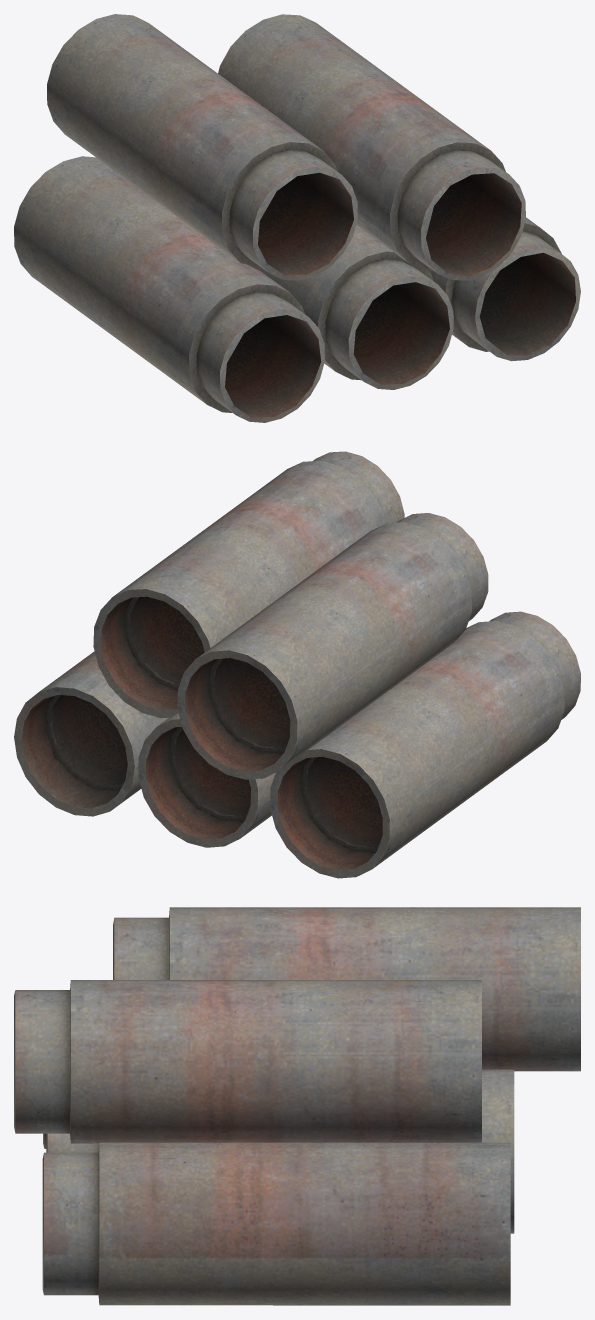
Rendered from cement_pipes.glb.
The picture shows the model from 3 angles, top to bottom: view 1: azimuth 30°, elevation 25°; view 2: azimuth 150°, elevation 25°; view 3: azimuth 270°, elevation 25°; orthographic projection. The views are drawn at different scales.
Visible parts, largest first — view 1: Construction.012_Construction_Assets_0, Construction.011_Construction_Assets_0, Construction.013_Construction_Assets_0, Construction.010_Construction_Assets_0, Construction.007_Construction_Assets_0; view 2: Construction.012_Construction_Assets_0, Construction.011_Construction_Assets_0, Construction.013_Construction_Assets_0, Construction.007_Construction_Assets_0, Construction.010_Construction_Assets_0; view 3: Construction.007_Construction_Assets_0, Construction.013_Construction_Assets_0, Construction.012_Construction_Assets_0, Construction.010_Construction_Assets_0.
Part boxes in pixels (x1=…): Construction.012_Construction_Assets_0: x1=47, y1=14, x2=357, y2=280; Construction.011_Construction_Assets_0: x1=14, y1=156, x2=324, y2=422; Construction.013_Construction_Assets_0: x1=218, y1=14, x2=525, y2=280; Construction.010_Construction_Assets_0: x1=260, y1=225, x2=453, y2=389; Construction.007_Construction_Assets_0: x1=429, y1=217, x2=580, y2=361; Construction.012_Construction_Assets_0: x1=177, y1=513, x2=488, y2=779; Construction.011_Construction_Assets_0: x1=270, y1=611, x2=580, y2=878; Construction.013_Construction_Assets_0: x1=93, y1=451, x2=404, y2=718; Construction.007_Construction_Assets_0: x1=14, y1=651, x2=168, y2=816; Construction.010_Construction_Assets_0: x1=138, y1=713, x2=275, y2=847; Construction.007_Construction_Assets_0: x1=42, y1=1142, x2=510, y2=1305; Construction.013_Construction_Assets_0: x1=14, y1=980, x2=481, y2=1143; Construction.012_Construction_Assets_0: x1=113, y1=907, x2=580, y2=1071; Construction.010_Construction_Assets_0: x1=46, y1=1069, x2=514, y2=1233.
Size of the model in its own units: 6.32 by 3.72 by 7.02.
Materials: 1 (1 with a texture image).
